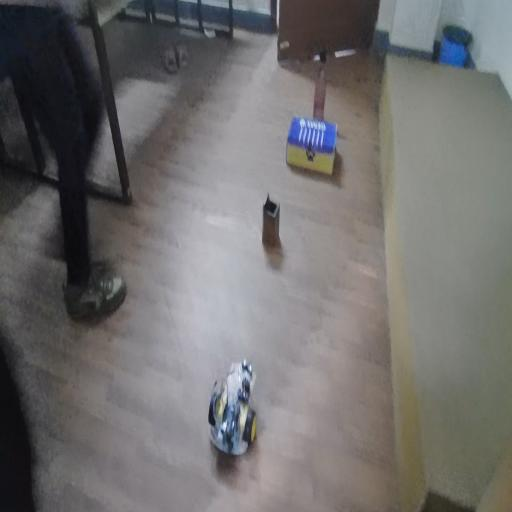Bottle: (312, 44, 336, 131)
car: (203, 353, 276, 460)
